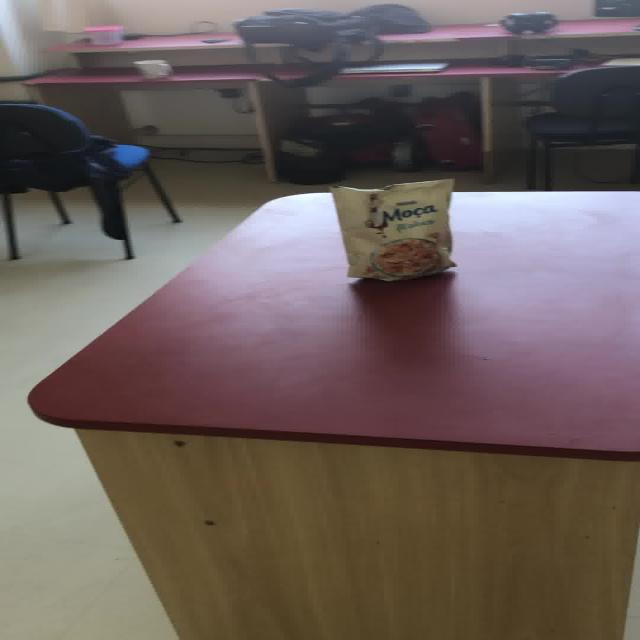corn flakes: (327, 178, 456, 282), (370, 238, 440, 276)
